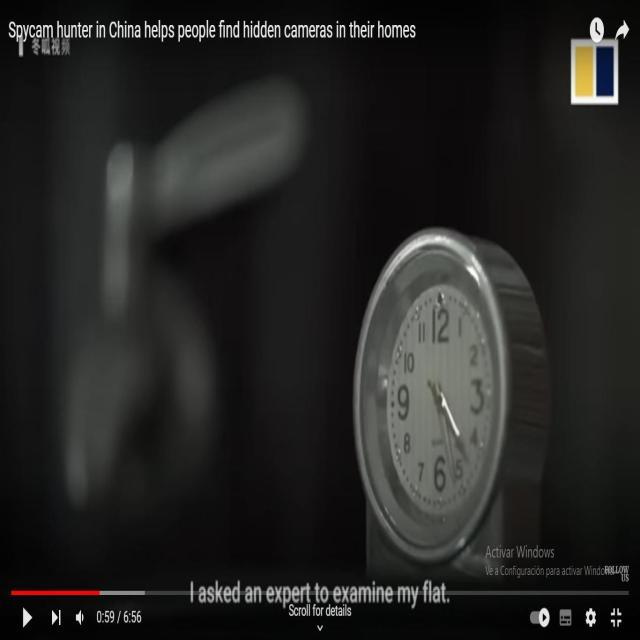hidden camera: (432, 282, 449, 318)
